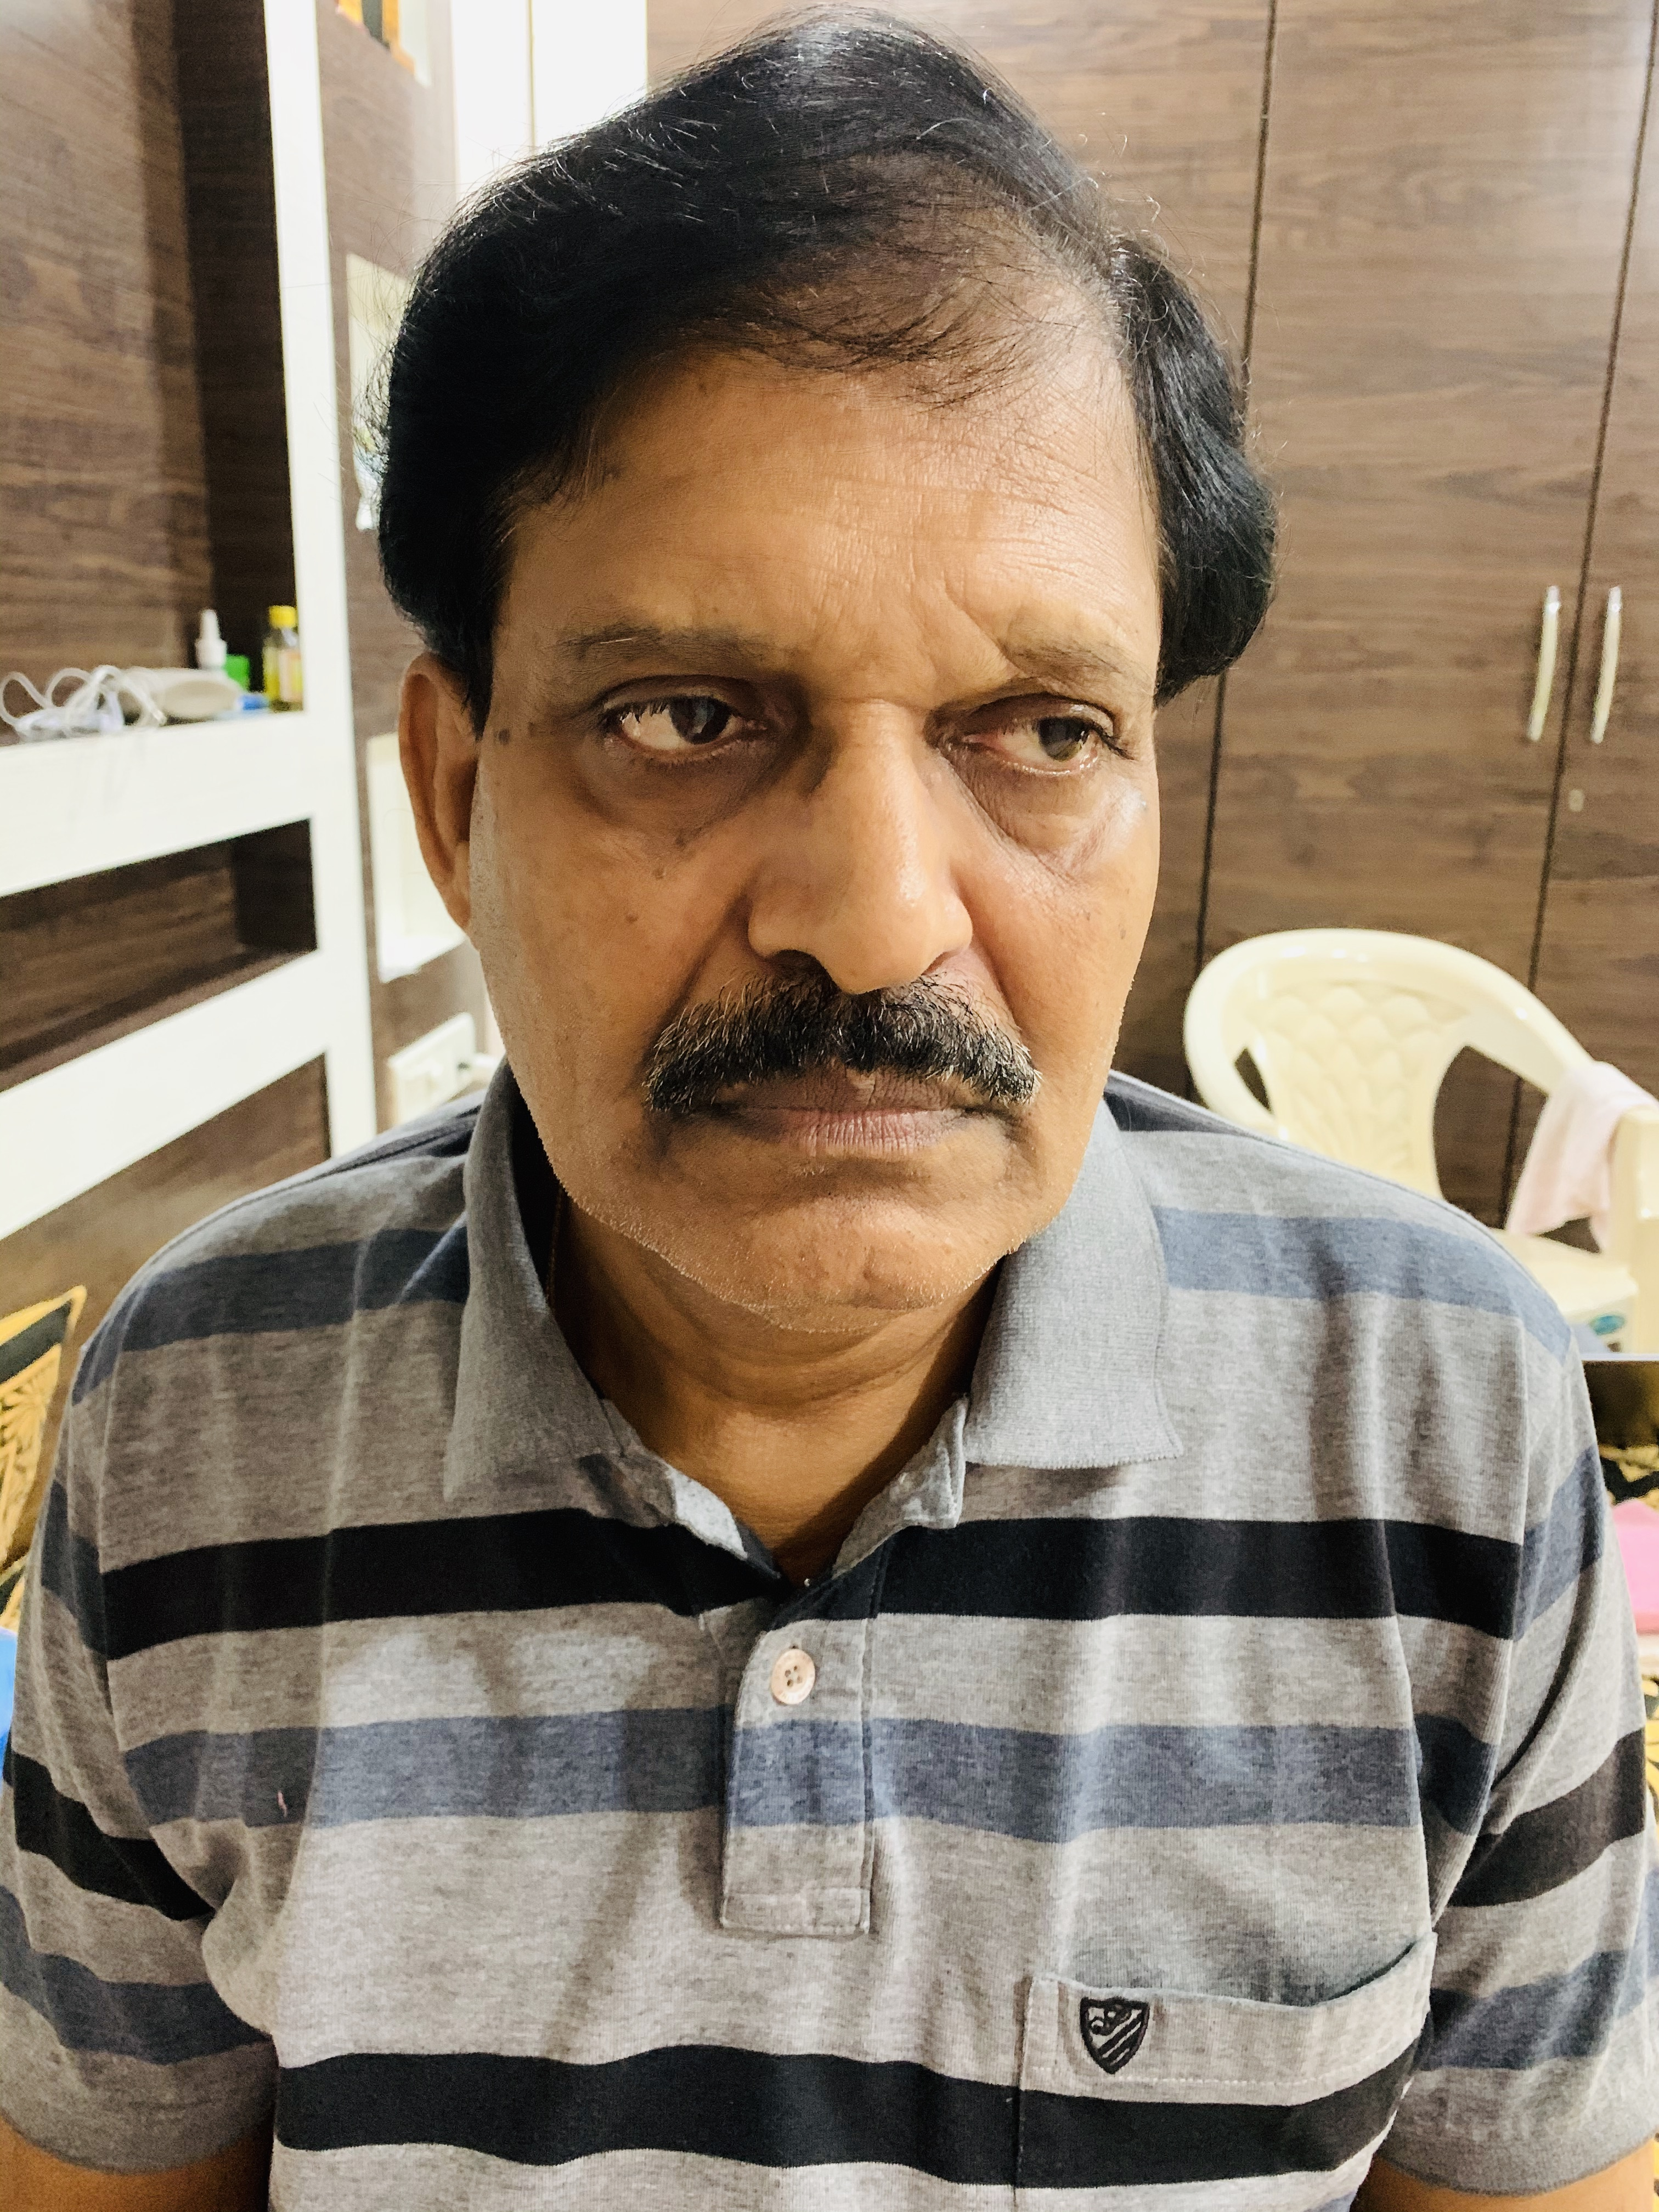Not Sleeping: (526, 637, 1155, 836)
